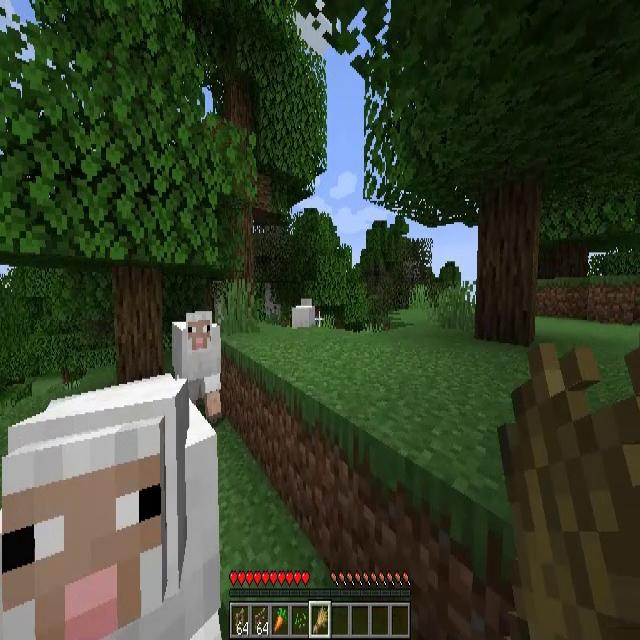sheep: (4, 376, 221, 640), (173, 312, 222, 416), (292, 298, 316, 329)
